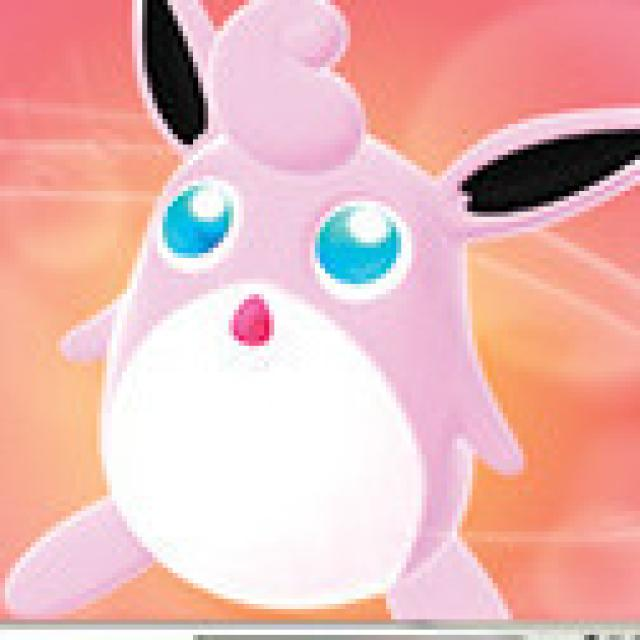Wigglytuff: (52, 0, 502, 624)
